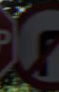Don't turn right: (15, 16, 55, 71)
